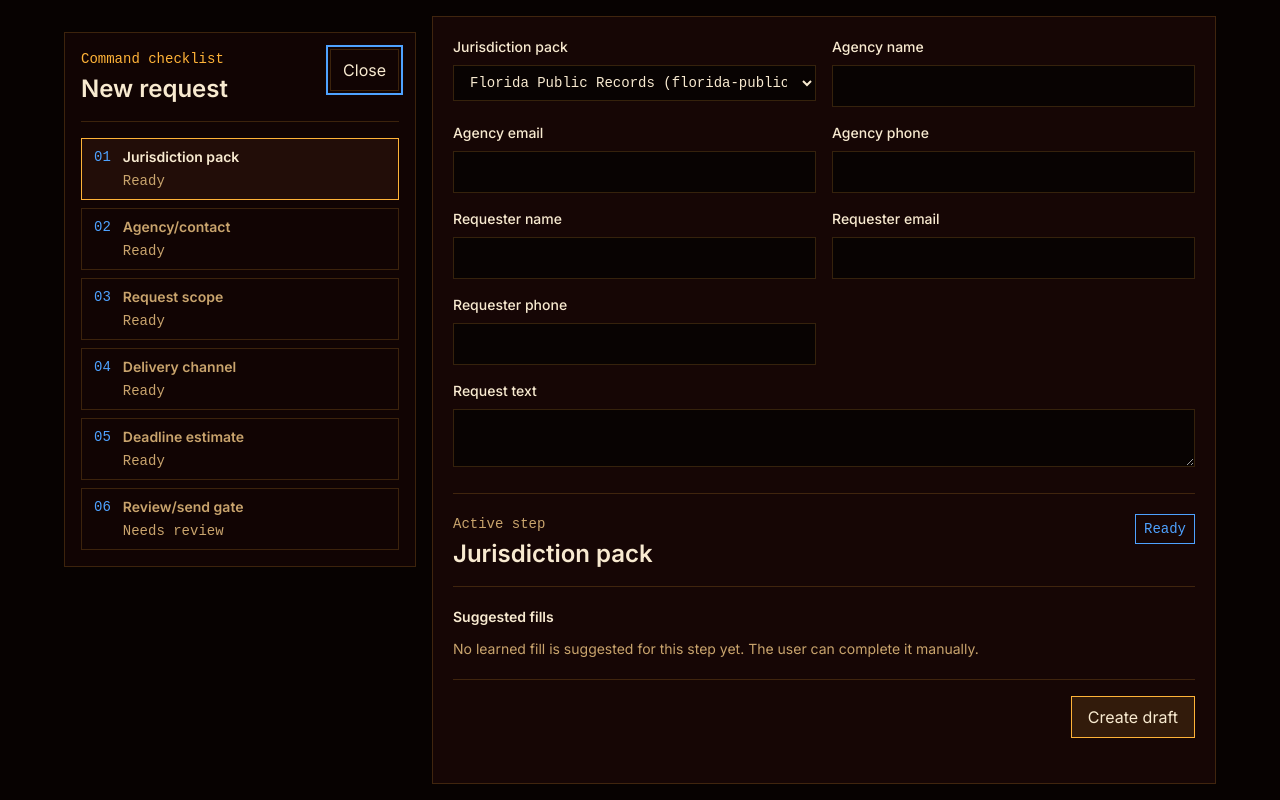
Test: RequestBuilder › does not submit an empty builder draft and shows validation guidance
Click the button "Create draft": [1133, 717] box 1071,696 -> 1195,738
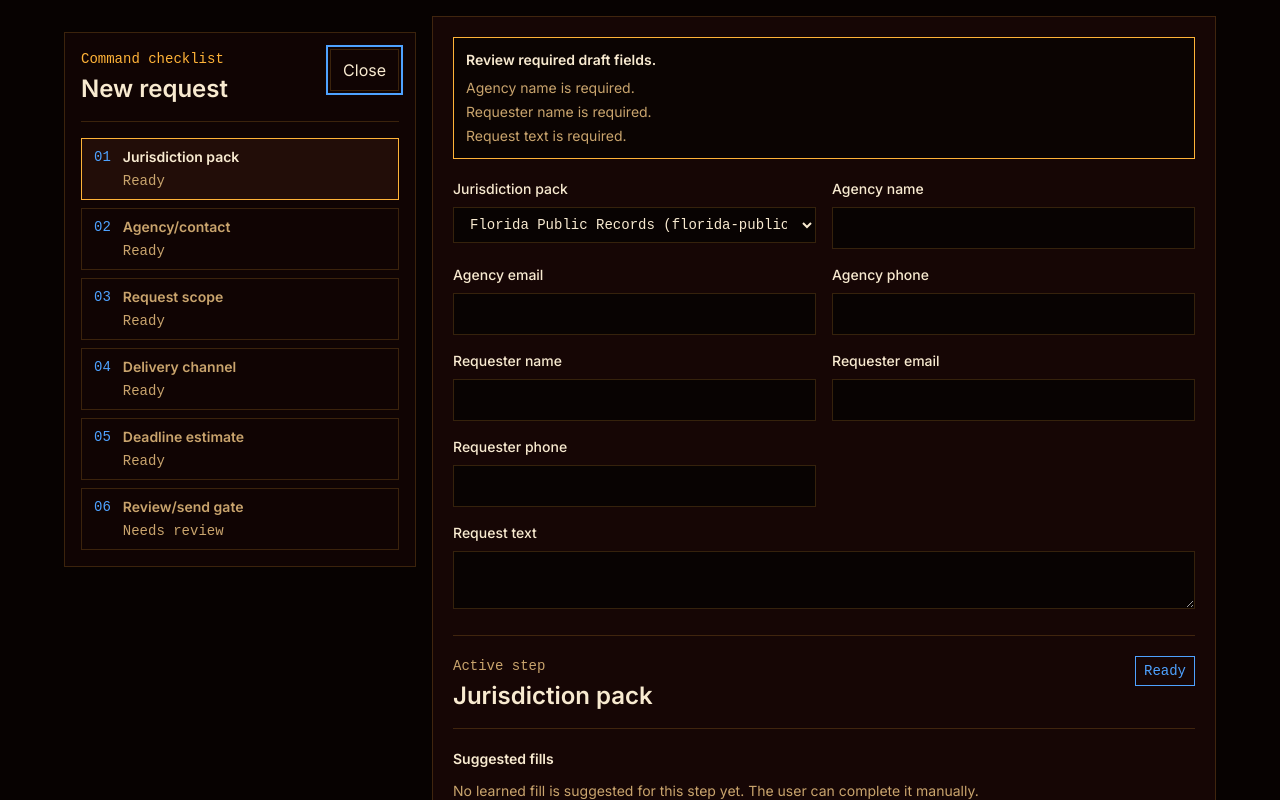
expect the list item "Agency name is required." is shown: met, box 466,79 -> 635,96
expect the list item "Requester name is required." is shown: met, box 466,103 -> 652,120
expect the list item "Request text is required." is shown: met, box 466,127 -> 627,144
